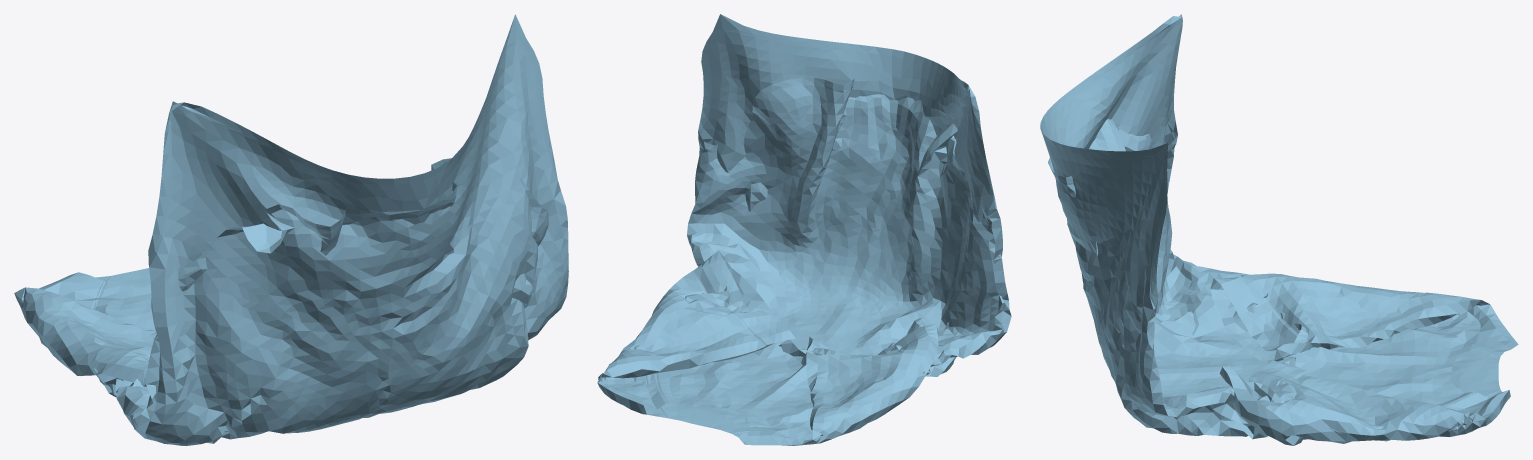
The model's file is frame_10.glb.
The picture shows the model from 3 angles, left to right: view 1: azimuth 30°, elevation 25°; view 2: azimuth 150°, elevation 25°; view 3: azimuth 270°, elevation 25°; orthographic projection. The views are drawn at different scales.
Parts seen in each view (by area): view 1: frame_10.obj; view 2: frame_10.obj; view 3: frame_10.obj.
Boxes of the visible parts, <box> form: frame_10.obj: <box>14,14,568,445</box>; frame_10.obj: <box>597,14,1011,445</box>; frame_10.obj: <box>1040,14,1518,445</box>.
Size of the model in its own units: 1.15 by 0.9481 by 1.33.
